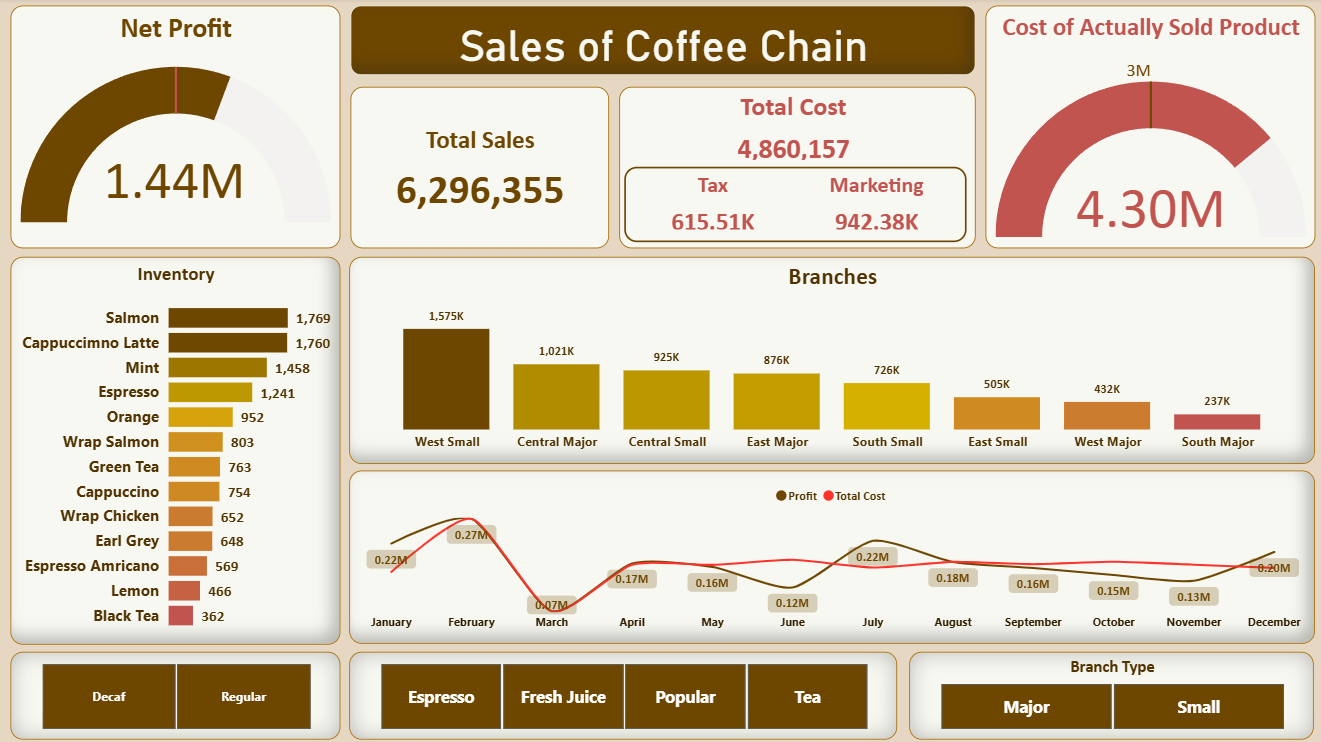

What the dashboard file says about the page in this screenshot:
{"tool":"powerbi","page":{"name":"Dashboard","canvas":[1280,720],"ordinal":0},"visuals":[{"type":"gauge","title":"Net Profit","fields":{"MinValue":["1fn Relation.5Guage_Chart_Profit_Value_Min"],"TargetValue":["1fn Relation.5Guage_Chart_Profit_Value_Target"],"Y":["1fn Relation.3Margin_Profit"]},"box":[12.3,6.9,318,234.4],"z":0,"group":"g1"},{"type":"cardVisual","fields":{"Data":["1fn Relation.5Title"]},"box":[340,6.9,603,67.2],"z":0},{"type":"shape","box":[599,85.4,344.1,156.3],"z":0,"group":"g2"},{"type":"gauge","title":"Cost of Actually Sold Product","fields":{"MaxValue":["1fn Relation.5Guage_Chart_COGS_Value_Max"],"TargetValue":["1fn Relation.1Sales(Budget\"Cost_Actually_Sold\")COGS"],"Y":["1fn Relation.1Sales(Total\"Cost_Actually_Sold\")COGS"]},"box":[952.7,6.9,318,234.4],"z":1000},{"type":"cardVisual","fields":{"Data":["1fn Relation.3Net_Profit"]},"box":[74,145.8,193.3,78.5],"z":1000,"group":"g1"},{"type":"group","id":"g1","title":"Group 1","box":[12.3,6.9,318,234.4],"z":2000},{"type":"cardVisual","fields":{"Data":["1fn Relation.3Total_Sales"]},"box":[339.9,85.4,249.5,156.3],"z":3000},{"type":"group","id":"g2","title":"Group 2","box":[599,85.4,344.1,156.3],"z":4000},{"type":"lineChart","fields":{"Category":["Date.Date.Variation.Date Hierarchy.Year","Date.Date.Variation.Date Hierarchy.Month","Date.Date.Variation.Date Hierarchy.Day"],"Y":["1fn Relation.3Profit"],"Y2":["1fn Relation.3Total_Cost"]},"box":[338.6,456.5,932.1,167.2],"z":5000},{"type":"clusteredBarChart","title":"Inventory","fields":{"Category":["Product.Product"],"Y":["1fn Relation.4Final_Inventory"]},"box":[12.3,249.5,318,374],"z":6000},{"type":"slicer","title":"Product type","fields":{"Values":["Product.Type"]},"box":[12.3,630.5,318,85],"z":7000},{"type":"clusteredColumnChart","title":"Branches","fields":{"Category":["Branches.Rejon","Branches.Type"],"Y":["1fn Relation.3Total_Sales"]},"box":[338.6,249.5,932.1,200.1],"z":8000},{"type":"cardVisual","fields":{"Data":["1fn Relation.3Total_Cost"]},"box":[641.2,89.5,253,72.8],"z":9000,"group":"g2"},{"type":"slicer","title":"Product type","fields":{"Values":["Product.Product_Category"]},"box":[338.6,630.5,529.1,85],"z":9000},{"type":"slicer","title":"Branch Type","fields":{"Values":["Branches.Type"]},"box":[880,630.5,390.7,85],"z":10000},{"type":"cardVisual","fields":{"Data":["1fn Relation.3Total_Tax","1fn Relation.3Total_Marketing"]},"box":[603.4,162.3,330.1,72.8],"z":11001,"group":"g2"}]}

Visuals, with their boxes in screenshot pixels (x1, y1, x2, y2), scaled from the page's 1280x720 canvas onto the 1321x742 screenshot:
"Net Profit" gauge: 13, 7, 341, 249
cardVisual - 1fn Relation.5Title: 351, 7, 973, 76
shape: 618, 88, 973, 249
"Cost of Actually Sold Product" gauge: 983, 7, 1311, 249
cardVisual - 1fn Relation.3Net_Profit: 76, 150, 276, 231
"Group 1" group: 13, 7, 341, 249
cardVisual - 1fn Relation.3Total_Sales: 351, 88, 608, 249
"Group 2" group: 618, 88, 973, 249
lineChart - Date.Date.Variation.Date Hierarchy.Year x Date.Date.Variation.Date Hierarchy.Month: 349, 470, 1311, 643
"Inventory" clusteredBarChart: 13, 257, 341, 643
"Product type" slicer: 13, 650, 341, 737
"Branches" clusteredColumnChart: 349, 257, 1311, 463
cardVisual - 1fn Relation.3Total_Cost: 662, 92, 923, 167
"Product type" slicer: 349, 650, 895, 737
"Branch Type" slicer: 908, 650, 1311, 737
cardVisual - 1fn Relation.3Total_Tax x 1fn Relation.3Total_Marketing: 623, 167, 963, 242
